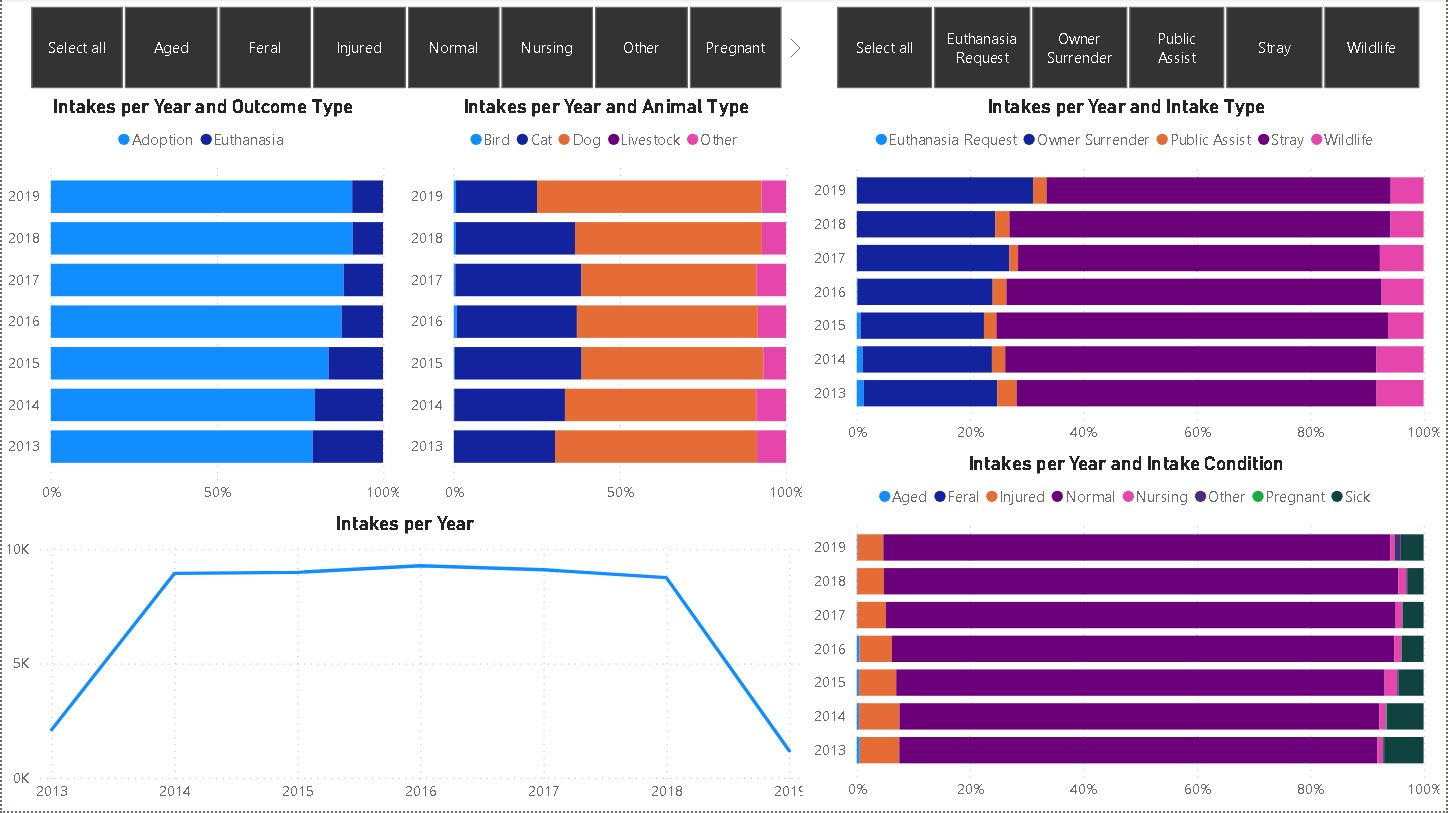

The dashboard page shown, as its layout file describes it:
{"tool":"powerbi","page":{"name":"Demographic","canvas":[1280,720],"ordinal":1},"visuals":[{"type":"lineChart","title":"Intakes per Year","fields":{"Category":["AnimalShelter.IntakeDT.Variation.Date Hierarchy.Year","AnimalShelter.IntakeDT.Variation.Date Hierarchy.Quarter","AnimalShelter.IntakeDT.Variation.Date Hierarchy.Month","AnimalShelter.IntakeDT.Variation.Date Hierarchy.Day"],"Y":["CountNonNull(AnimalShelter.Animal ID)"]},"box":[0,455.3,715.1,264.7],"z":0},{"type":"hundredPercentStackedBarChart","title":"Intakes per Year and Animal Type","fields":{"Category":["AnimalShelter.IntakeDT.Variation.Date Hierarchy.Year","AnimalShelter.IntakeDT.Variation.Date Hierarchy.Quarter","AnimalShelter.IntakeDT.Variation.Date Hierarchy.Month","AnimalShelter.IntakeDT.Variation.Date Hierarchy.Day"],"Y":["CountNonNull(AnimalShelter.Animal ID)"],"Series":["AnimalShelter.Animal Type"]},"box":[357,85,357,370],"z":1000},{"type":"hundredPercentStackedBarChart","title":"Intakes per Year and Intake Type","fields":{"Category":["AnimalShelter.IntakeDT.Variation.Date Hierarchy.Year","AnimalShelter.IntakeDT.Variation.Date Hierarchy.Quarter","AnimalShelter.IntakeDT.Variation.Date Hierarchy.Month","AnimalShelter.IntakeDT.Variation.Date Hierarchy.Day"],"Y":["CountNonNull(AnimalShelter.Animal ID)"],"Series":["AnimalShelter.Intake Type"]},"box":[715.1,85,565,317],"z":2000},{"type":"hundredPercentStackedBarChart","title":"Intakes per Year and Outcome Type","fields":{"Category":["AnimalShelter.IntakeDT.Variation.Date Hierarchy.Year","AnimalShelter.IntakeDT.Variation.Date Hierarchy.Quarter","AnimalShelter.IntakeDT.Variation.Date Hierarchy.Month","AnimalShelter.IntakeDT.Variation.Date Hierarchy.Day"],"Series":["AnimalShelter.Outcome Type"],"Y":["CountNonNull(AnimalShelter.Animal ID)"]},"box":[0,85,357,370],"z":3000},{"type":"hundredPercentStackedBarChart","title":"Intakes per Year and Intake Condition","fields":{"Category":["AnimalShelter.IntakeDT.Variation.Date Hierarchy.Year","AnimalShelter.IntakeDT.Variation.Date Hierarchy.Quarter","AnimalShelter.IntakeDT.Variation.Date Hierarchy.Month","AnimalShelter.IntakeDT.Variation.Date Hierarchy.Day"],"Y":["CountNonNull(AnimalShelter.Animal ID)"],"Series":["AnimalShelter.Intake Condition"]},"box":[715,402,565,317],"z":4000},{"type":"slicer","fields":{"Values":["AnimalShelter.Intake Condition"]},"box":[0,0,715,85.9],"z":5000},{"type":"slicer","fields":{"Values":["AnimalShelter.Intake Type"]},"box":[715,0,565.9,85.9],"z":6000}]}

Visuals, with their boxes in screenshot pixels (x1, y1, x2, y2), scaled from the page's 1280x720 canvas onto the 1448x813 screenshot:
"Intakes per Year" lineChart: bbox=[0, 514, 809, 812]
"Intakes per Year and Animal Type" hundredPercentStackedBarChart: bbox=[404, 96, 808, 514]
"Intakes per Year and Intake Type" hundredPercentStackedBarChart: bbox=[809, 96, 1447, 454]
"Intakes per Year and Outcome Type" hundredPercentStackedBarChart: bbox=[0, 96, 404, 514]
"Intakes per Year and Intake Condition" hundredPercentStackedBarChart: bbox=[809, 454, 1447, 812]
slicer - AnimalShelter.Intake Condition: bbox=[0, 0, 809, 97]
slicer - AnimalShelter.Intake Type: bbox=[809, 0, 1447, 97]
